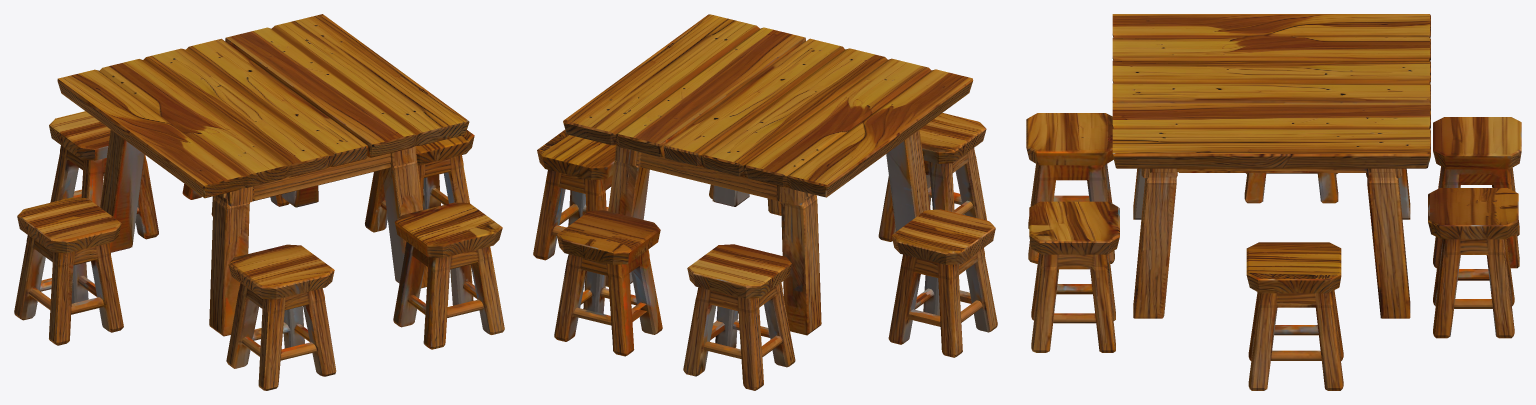
Rendered from table.glb.
3 views of the same model, side by side, from view 1: azimuth 30°, elevation 25°; view 2: azimuth 150°, elevation 25°; view 3: azimuth 270°, elevation 25° (orthographic). The views are drawn at different scales.
Visible parts, largest first — view 1: tripo_node_e805bbff-e1a2-471a-8857-17e5c430ff28; view 2: tripo_node_e805bbff-e1a2-471a-8857-17e5c430ff28; view 3: tripo_node_e805bbff-e1a2-471a-8857-17e5c430ff28.
Boxes of the visible parts, x1,y1,x2,y2 form: tripo_node_e805bbff-e1a2-471a-8857-17e5c430ff28: (14, 14, 504, 390); tripo_node_e805bbff-e1a2-471a-8857-17e5c430ff28: (533, 14, 997, 390); tripo_node_e805bbff-e1a2-471a-8857-17e5c430ff28: (1026, 14, 1521, 390).
Bounding box in the file's own units: 0.9441 × 0.3926 × 0.8784.
Materials: 1 (1 with a texture image).
